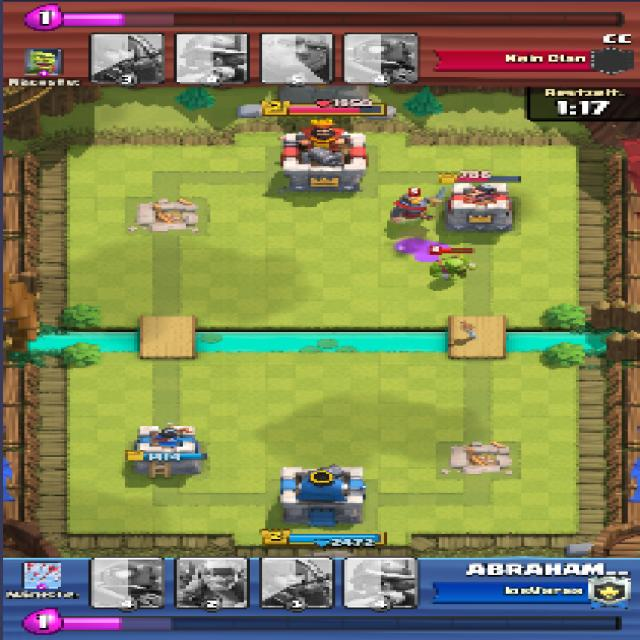Enemy-Knight: (387, 192, 443, 223)
Player-GoblinCage: (426, 254, 482, 281)
